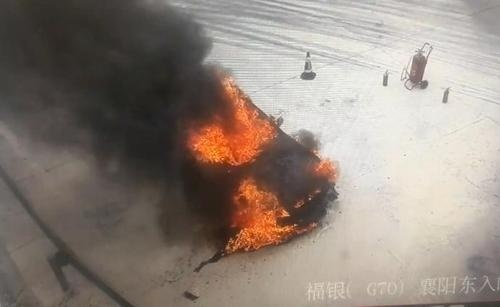fire: (187, 75, 276, 166), (222, 176, 316, 252), (313, 147, 339, 178)
